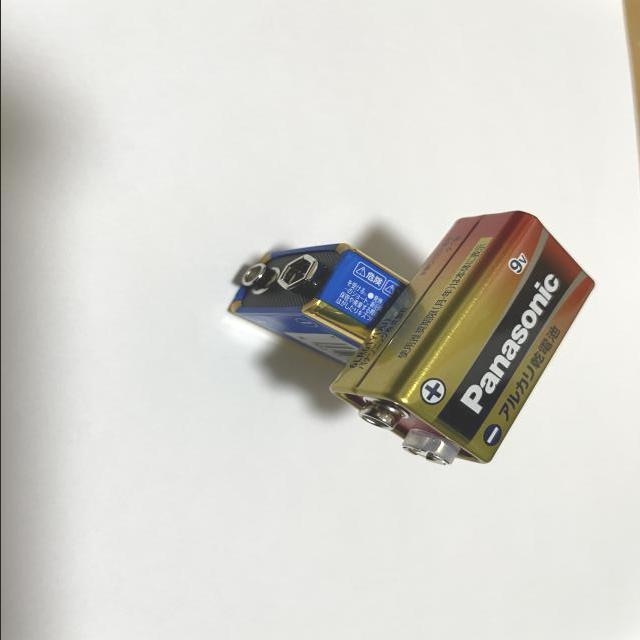9V: (329, 209, 594, 464), (225, 245, 410, 370)
